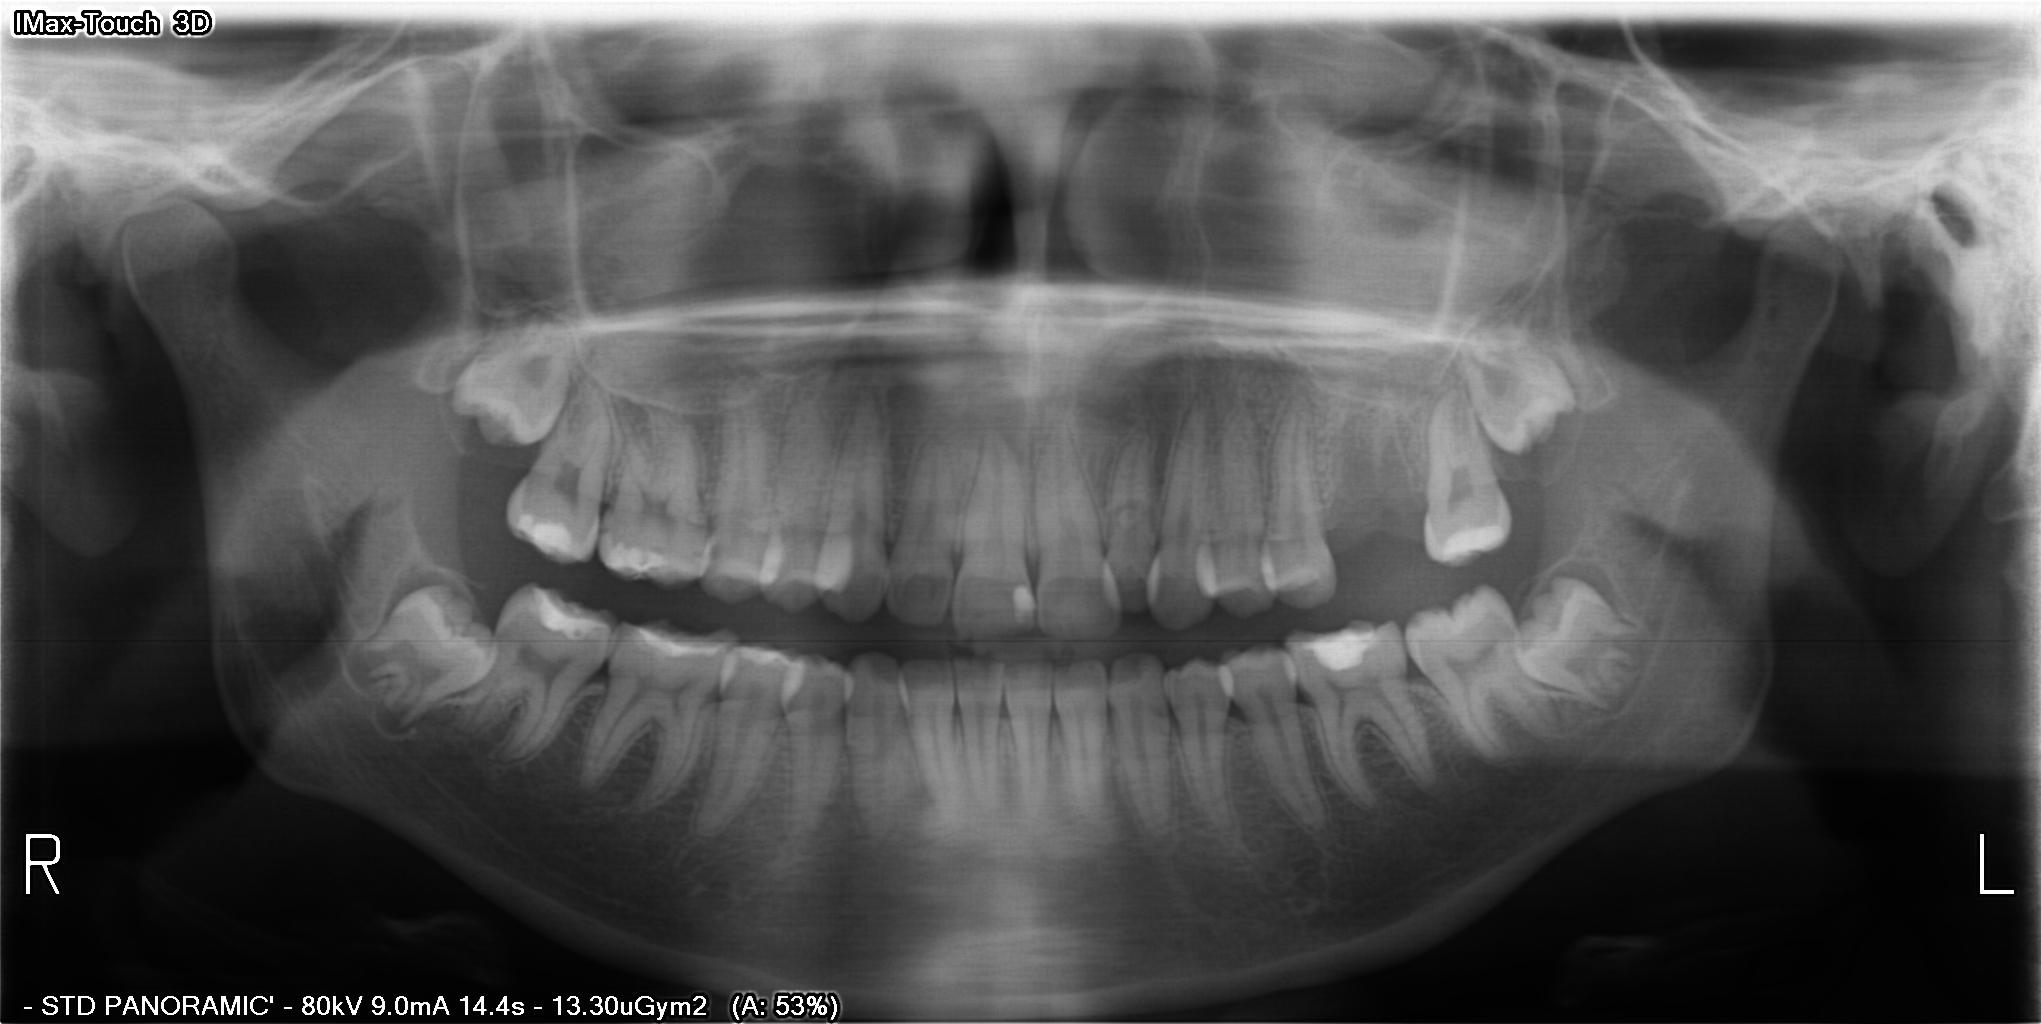Çürük: (1295, 626, 1387, 683), (531, 583, 606, 647), (516, 507, 589, 564), (1009, 583, 1041, 627)
